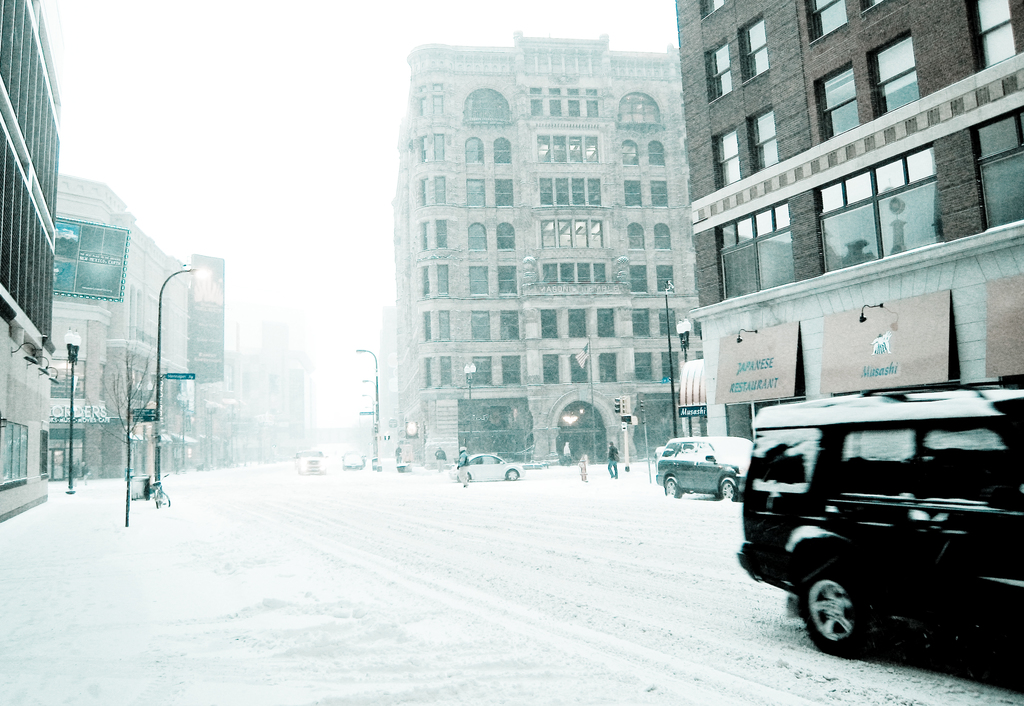Car: (736, 372, 1023, 652), (653, 435, 750, 502), (449, 449, 526, 479), (295, 452, 325, 474), (341, 452, 364, 473), (341, 456, 361, 468)
